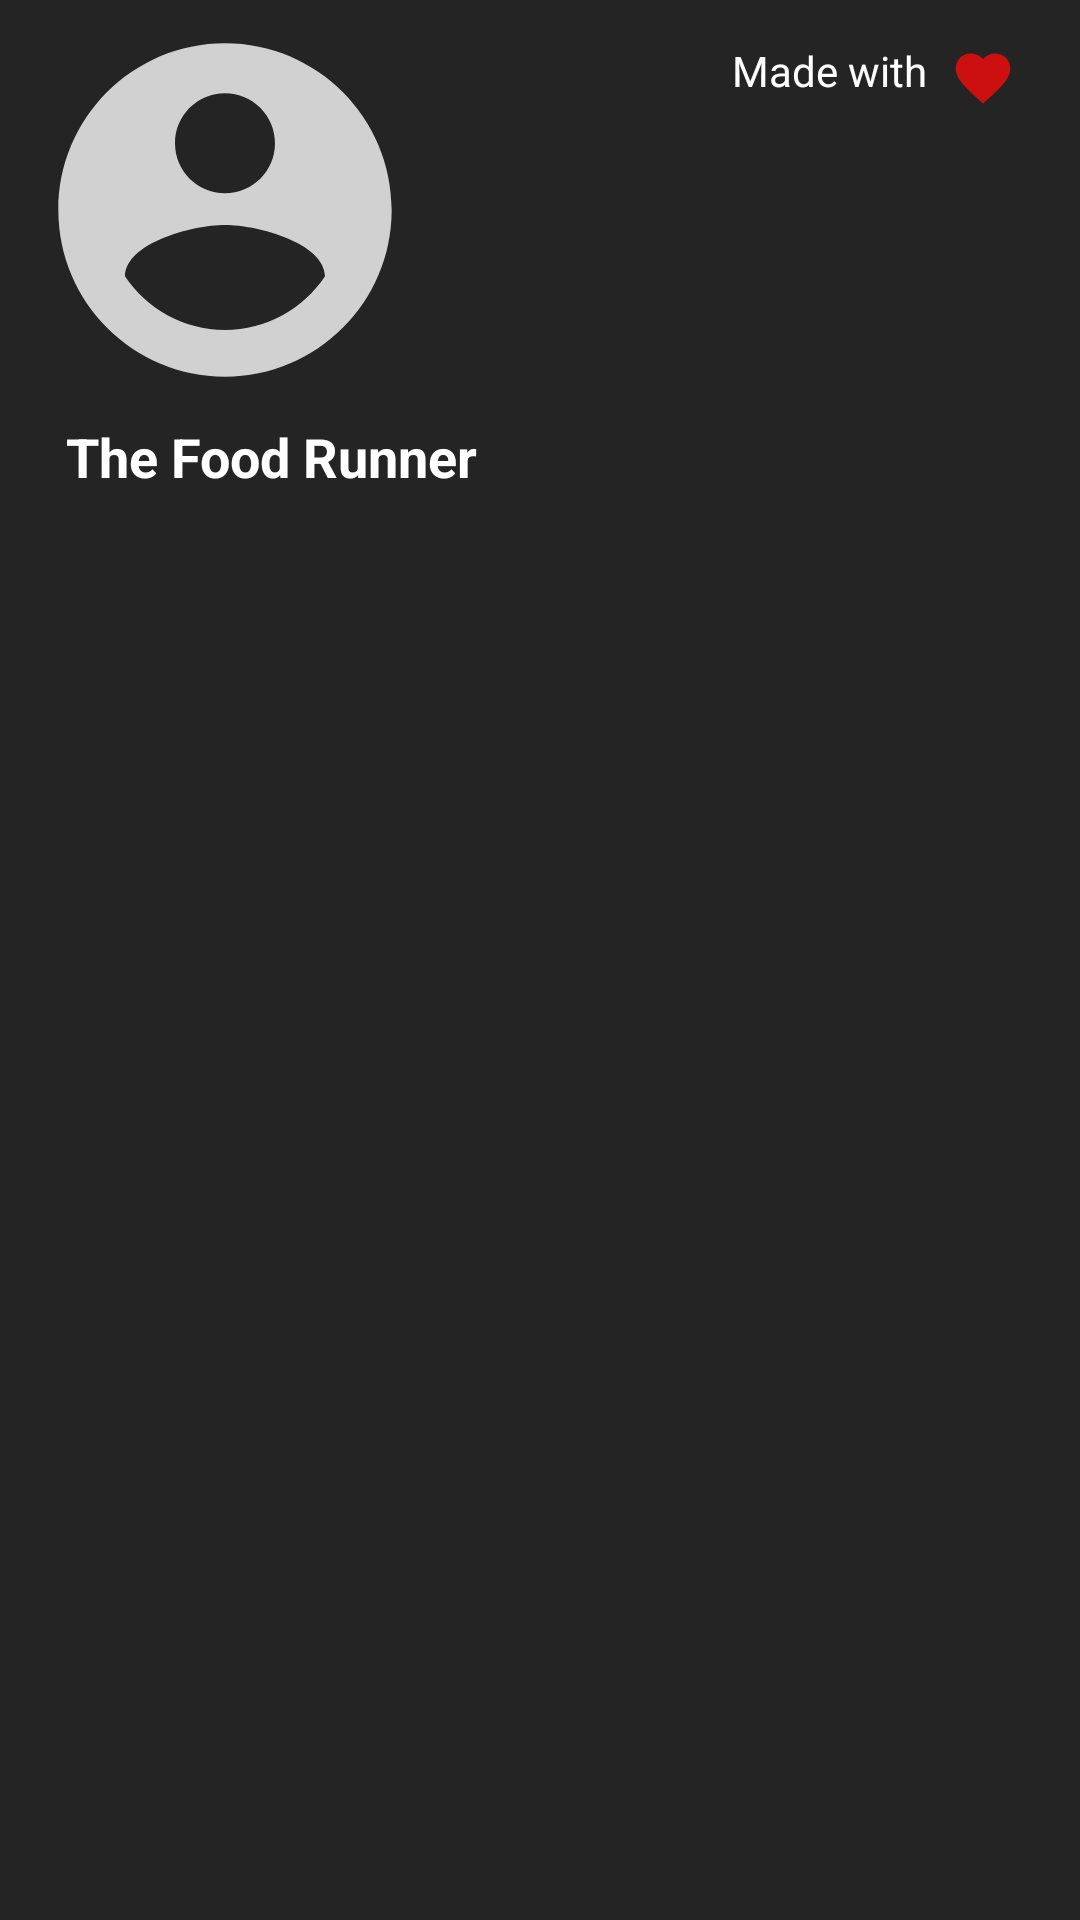

Where to tap for icons on this 1080×1920 app screen, as [x,y]:
account: [225,210]
